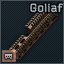AKS-74U Alfa Arms Goliaf handguard: (0, 0, 64, 64)
